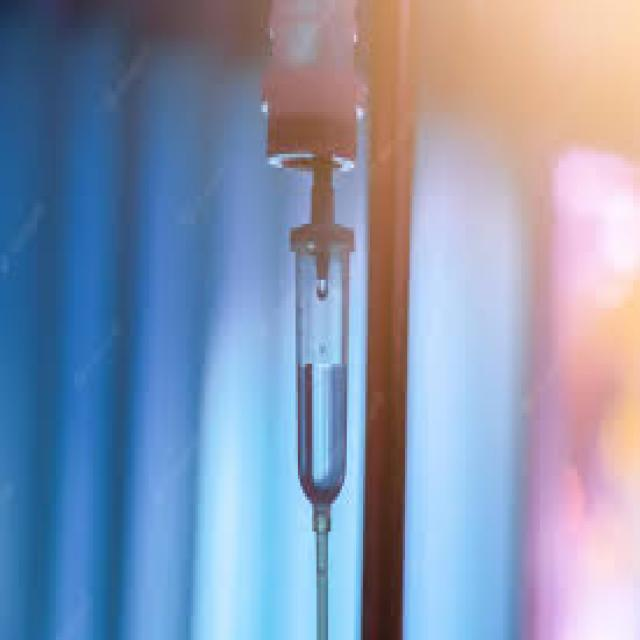iv_fluids: (256, 105, 393, 595)
